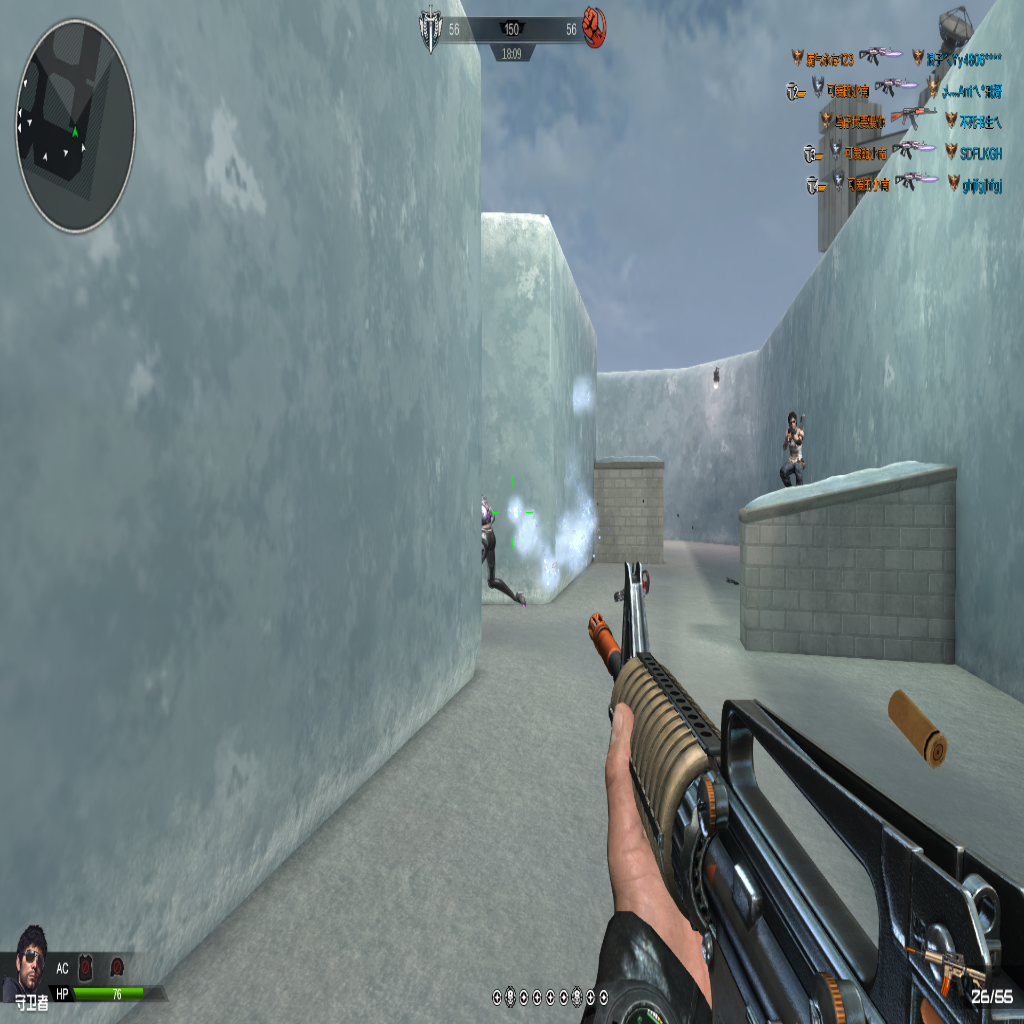tt: (479, 494, 524, 607), (781, 411, 806, 488)
